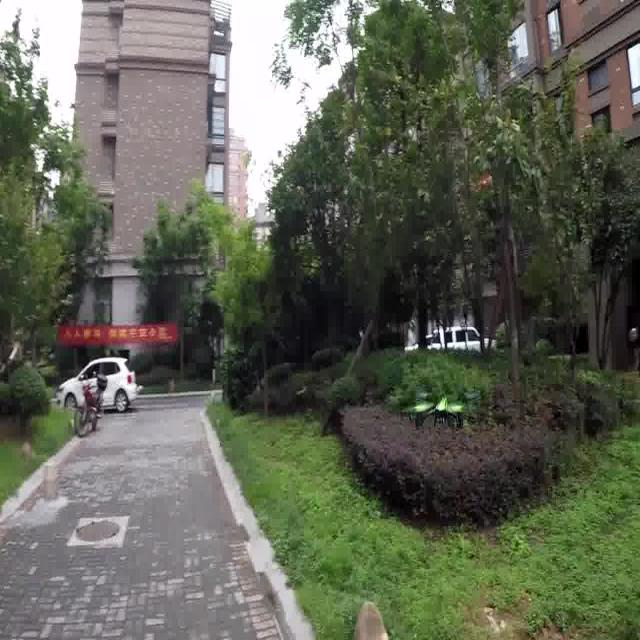drone: (404, 383, 480, 435)
